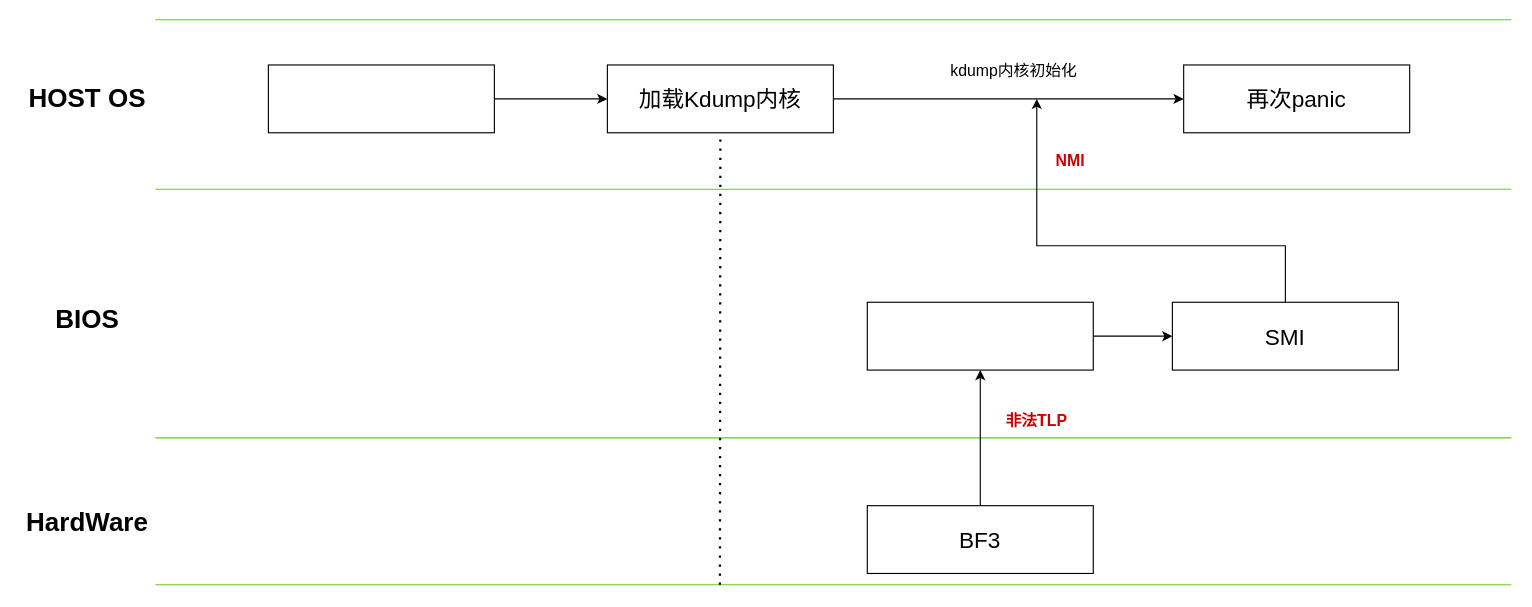
Some shapes in this 1532 by 607 pixel diagram are drawn without their labels. Each missing label, with the centre of its shape:
"HOST OS Panic" belongs at [380,98].
"IEH Fatal Error" belongs at [979,335].
